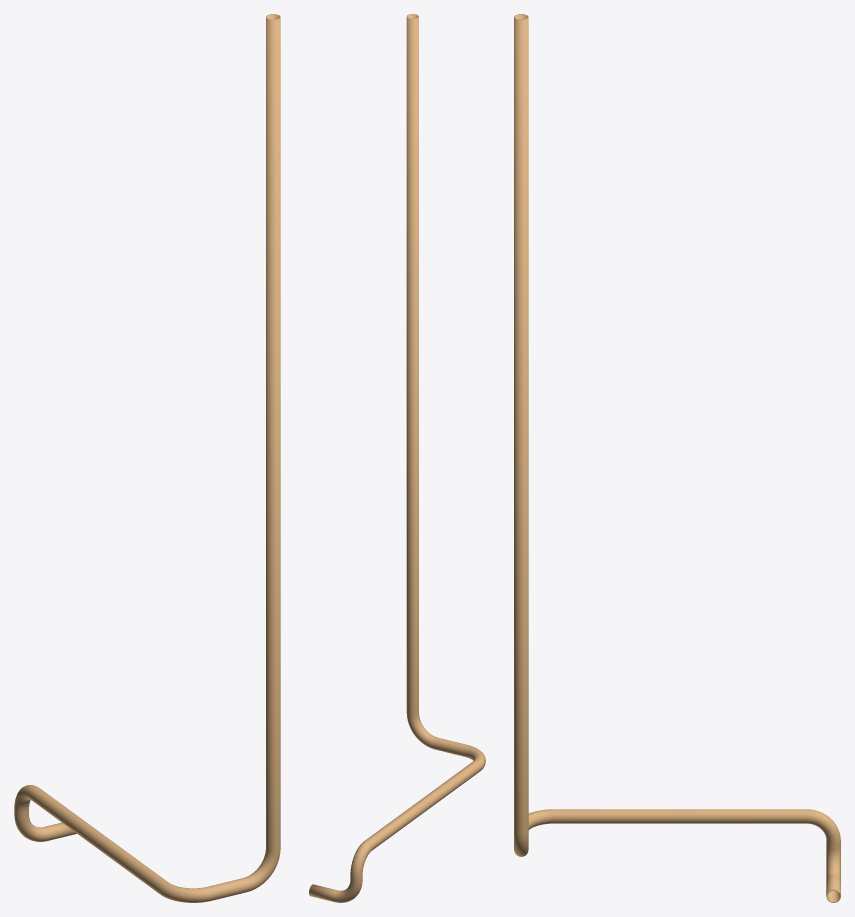
File: slab_pipes_supply__softener-yes_and_plumbing-copper__r4t.glb
3 views of the same model, side by side, from view 1: azimuth 30°, elevation 25°; view 2: azimuth 150°, elevation 25°; view 3: azimuth 270°, elevation 25° (orthographic). The views are drawn at different scales.
Parts seen in each view (by area): view 1: pipe_supply_softener_feed__copper; view 2: pipe_supply_softener_feed__copper; view 3: pipe_supply_softener_feed__copper.
Part boxes in pixels (box(x1,y1,x2,y2)): pipe_supply_softener_feed__copper: box(14, 14, 280, 902); pipe_supply_softener_feed__copper: box(309, 14, 485, 902); pipe_supply_softener_feed__copper: box(514, 14, 840, 902).
Size of the model in its own units: 0.1821 by 1.53 by 0.5022.
